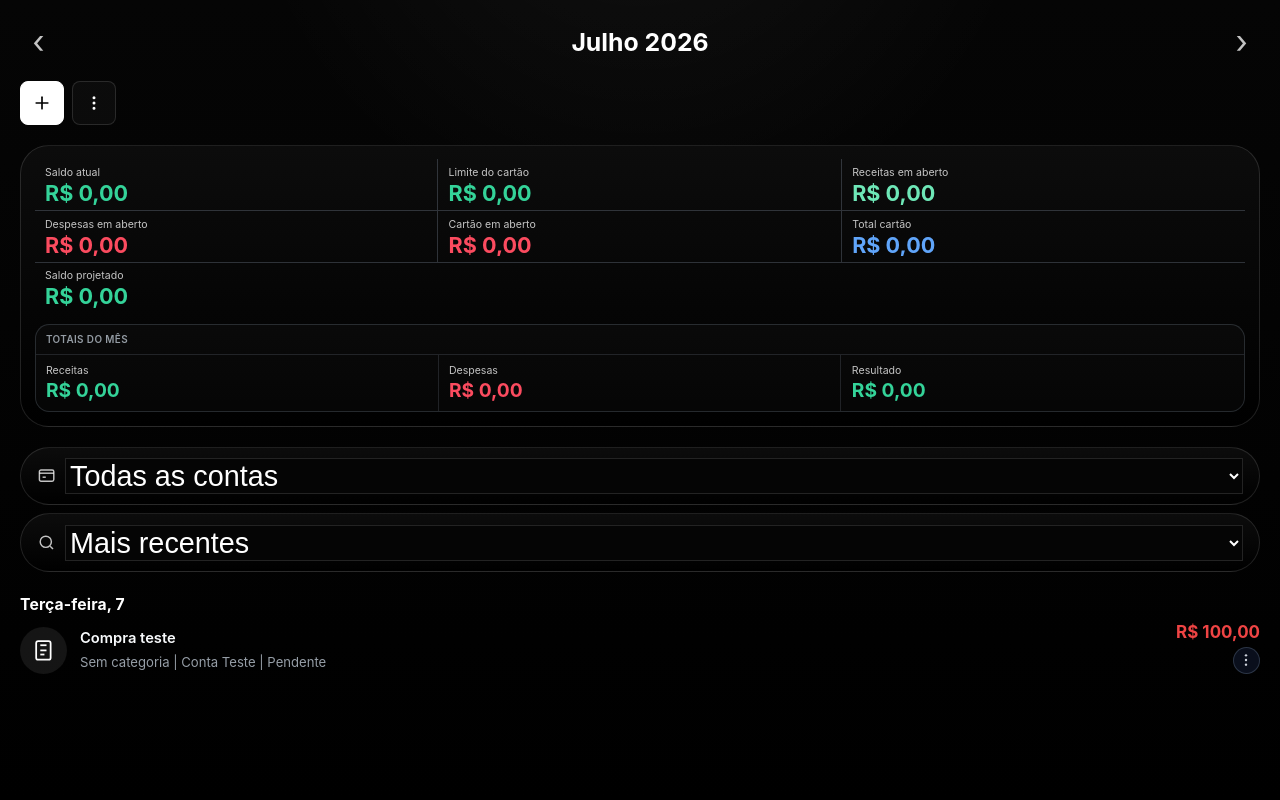
Transactions Page › hides a summary tile after unchecking it in Configurar and persists the choice
The image size is (1280, 800).
Expected: the text "Compra teste" is shown, [80,629,176,647]
Expected: the element with id "statement-balance" shows "Cartão em aberto", [449,218,536,231]
What coordinates should you click on to do the following:
click the button named "Abrir mais ações"
I would click on:
 (94, 103)
Its box is [72,81,116,125].
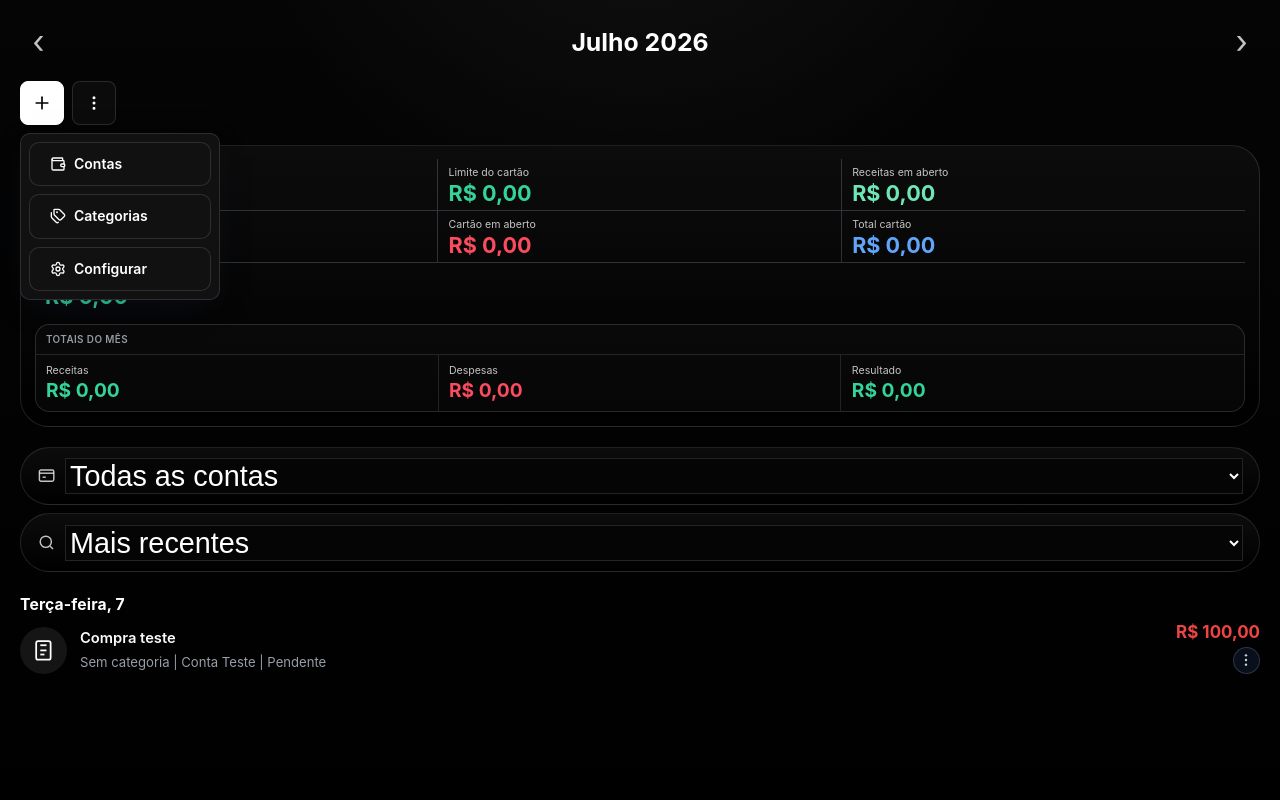
What coordinates should you click on to do the following:
click the button "Configurar"
I would click on:
 (120, 269)
Its box is [29,247,211,291].
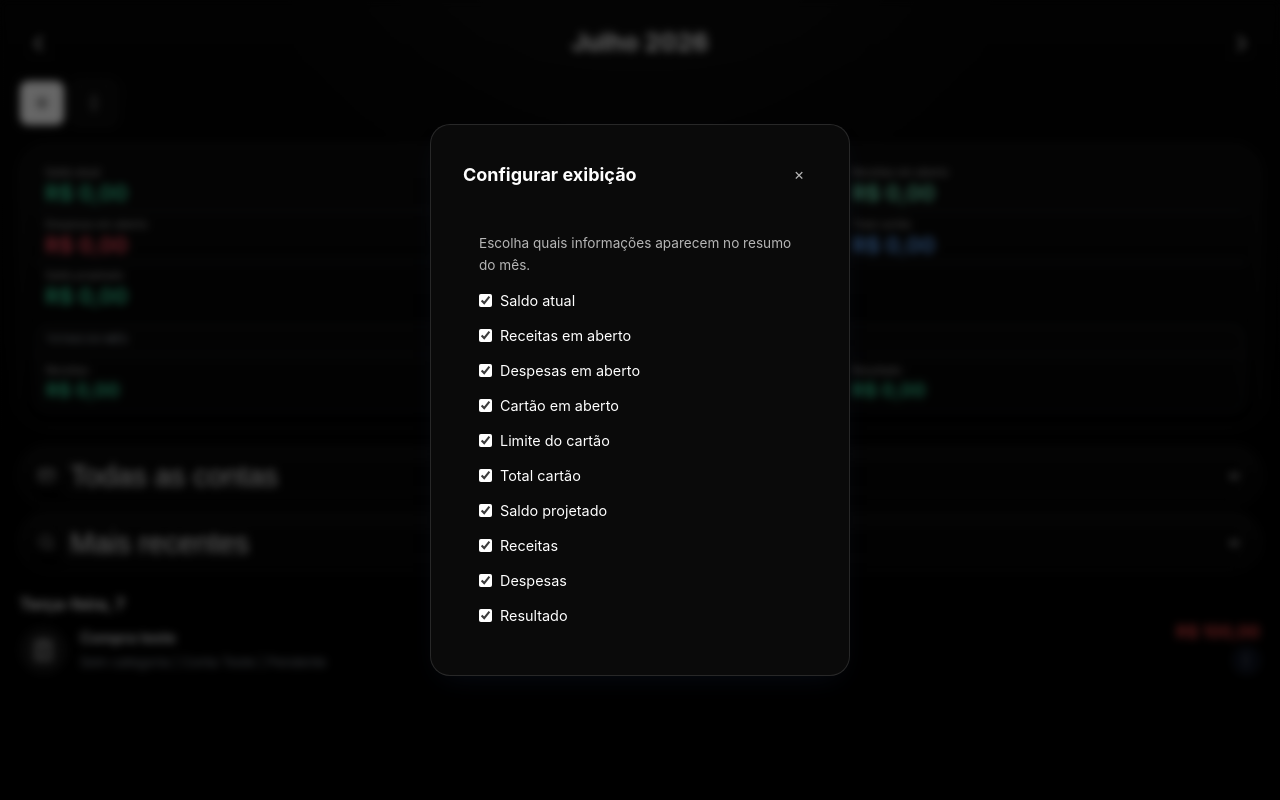
What coordinates should you click on to do the following:
click the checkbox labelled "Cartão em aberto"
I would click on:
 (486, 405)
Its box is [479,399,492,412].
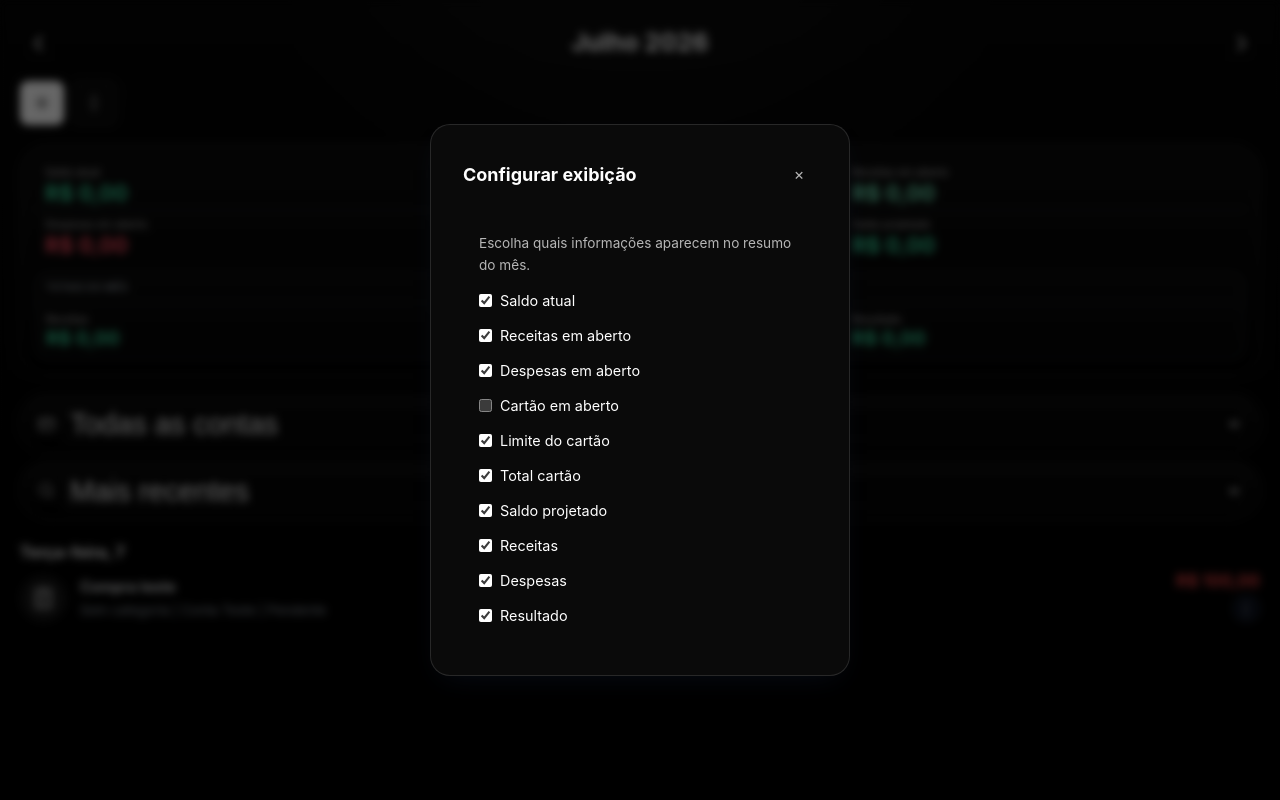
What coordinates should you click on to do the following:
click the button "×"
I would click on:
 (799, 175)
Its box is [781,157,817,193].
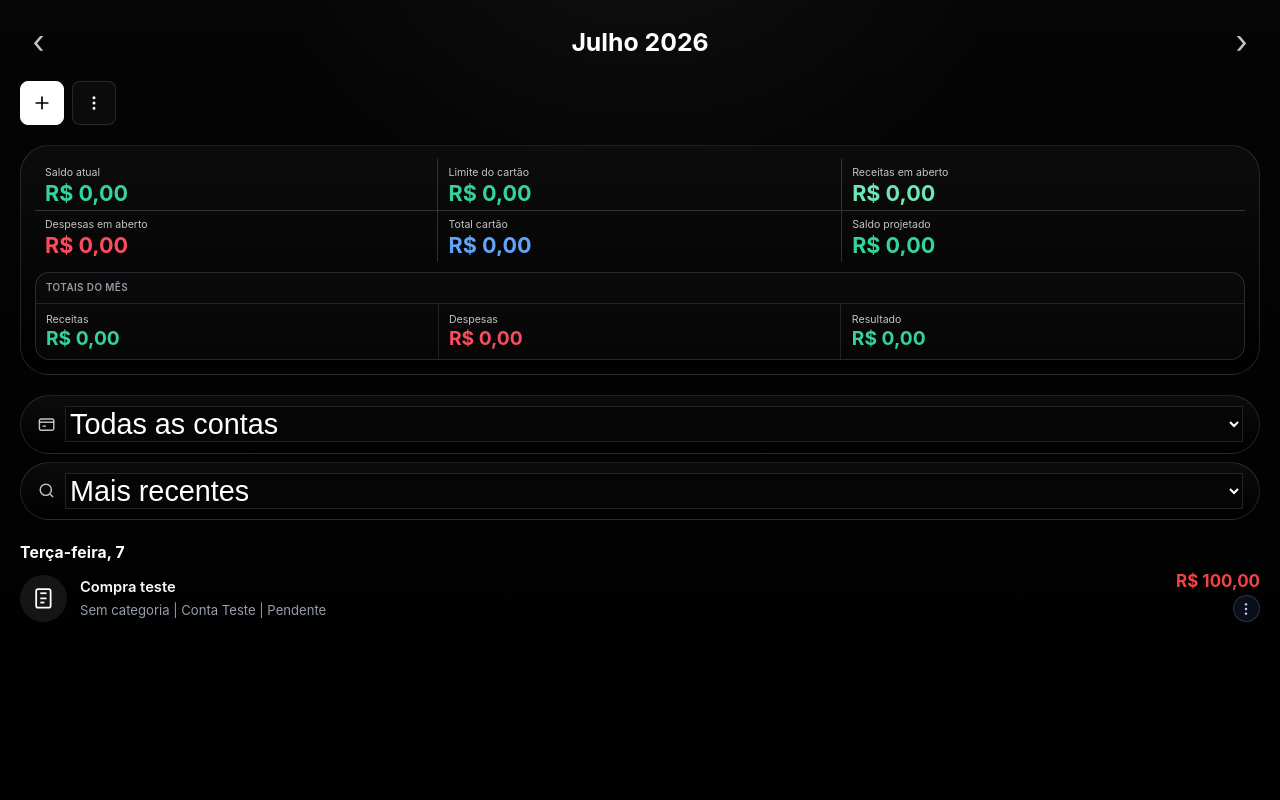
Result: the element with id "statement-balance" no longer shows "Cartão em aberto" at [20,145,1260,375]
